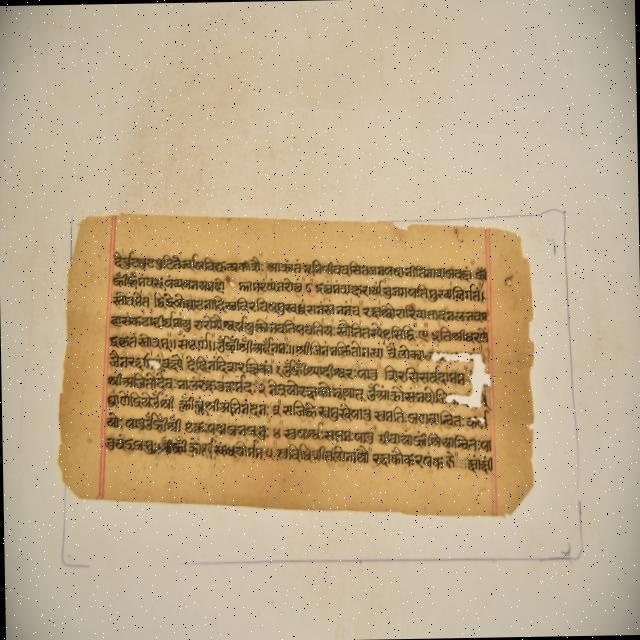text_paragraph: (65, 215, 527, 519)
